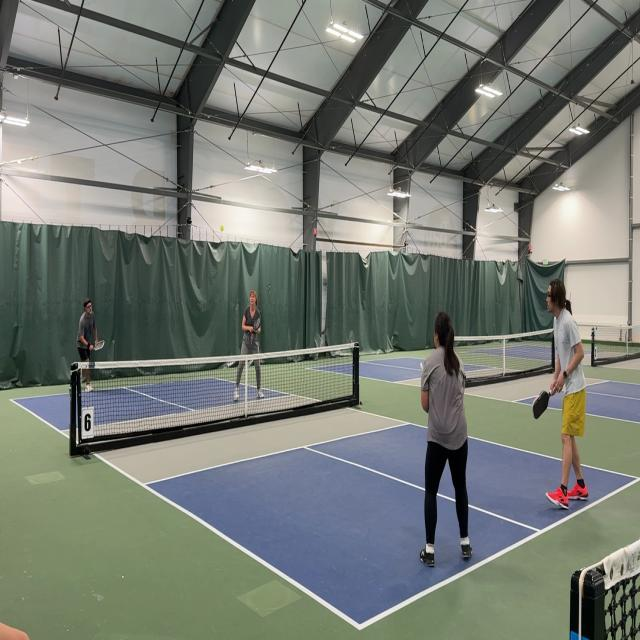ball: (220, 224, 224, 233)
